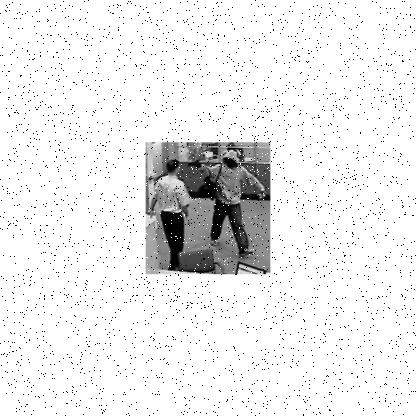gun: (186, 160, 204, 170)
